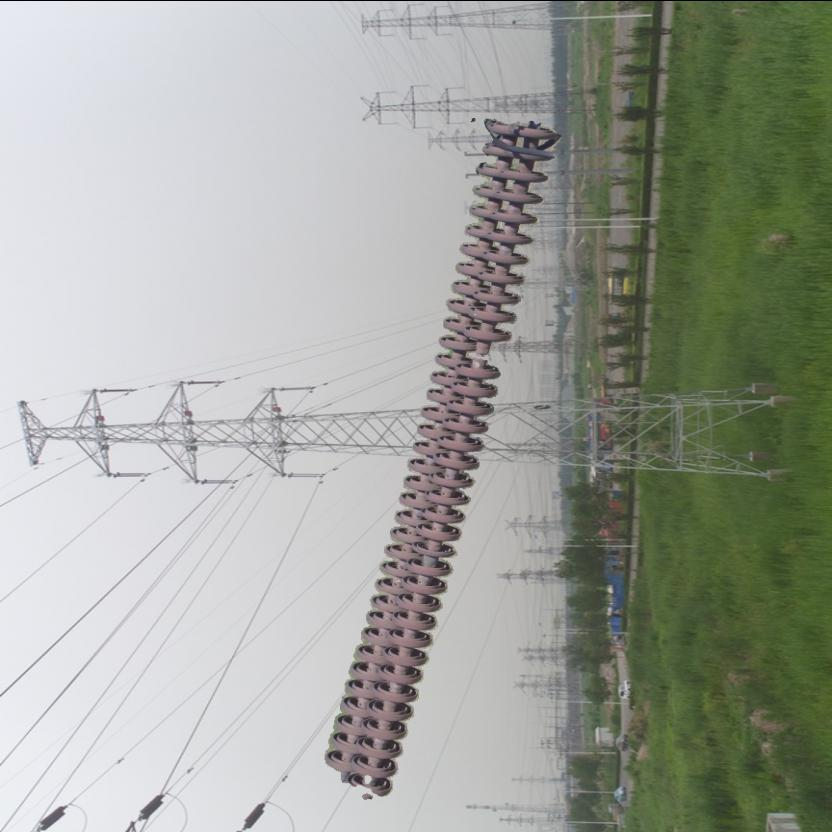defect: (449, 326, 512, 386)
